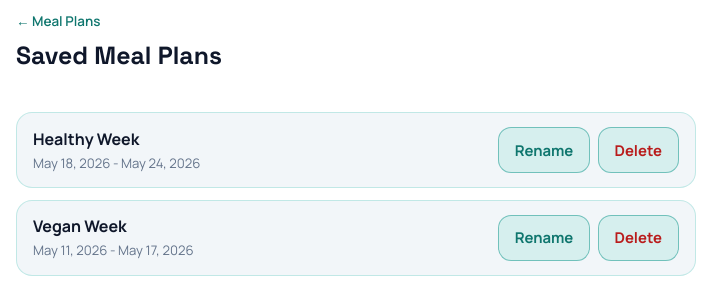
Scenario: SavedMealPlansPage › delete › cancels deletion when Cancel is clicked
Expected: the text "Healthy Week" is shown, [33,128,139,150]
Click the button "Delete" in the row of "Healthy Week" at (638, 150), box [598,127,679,173]
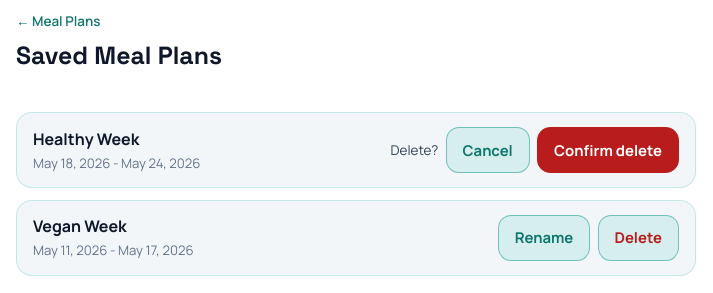
Click the button "Cancel" at (488, 150), box [446,127,530,173]
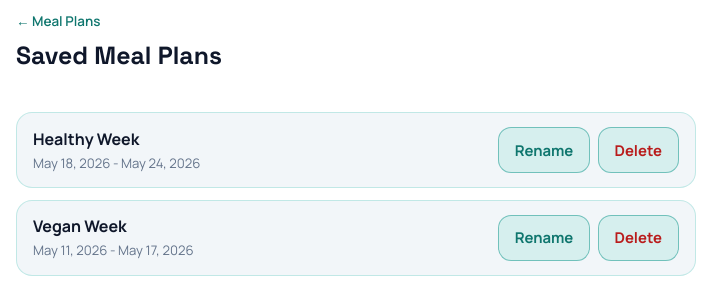
Expected: the button "Confirm delete" is gone
